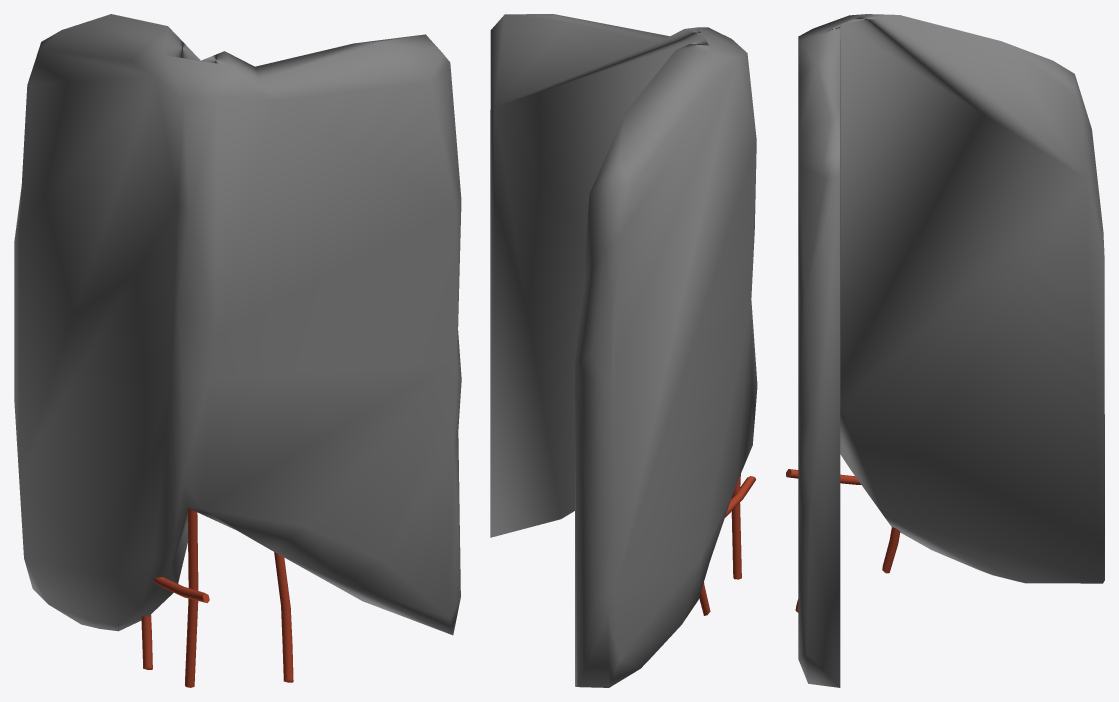
Rendered from SM_wall_corner_broken.fbx.
3 renders of one model, left to right at view 1: azimuth 30°, elevation 25°; view 2: azimuth 150°, elevation 25°; view 3: azimuth 270°, elevation 25°, orthographic. The views are drawn at different scales.
Parts seen in each view (by area): view 1: Object014; view 2: Object014; view 3: Object014.
Part boxes in pixels (x1=…): Object014: x1=14, y1=14, x2=461, y2=687; Object014: x1=490, y1=14, x2=757, y2=687; Object014: x1=786, y1=14, x2=1104, y2=687.
Size of the model in its own units: 63.32 by 136 by 69.
